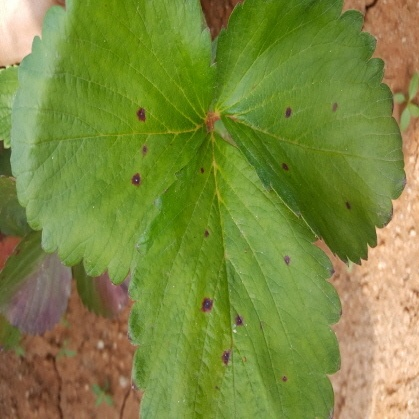Leaf_Spot: (126, 0, 344, 284), (9, 126, 216, 418), (214, 120, 406, 418)
